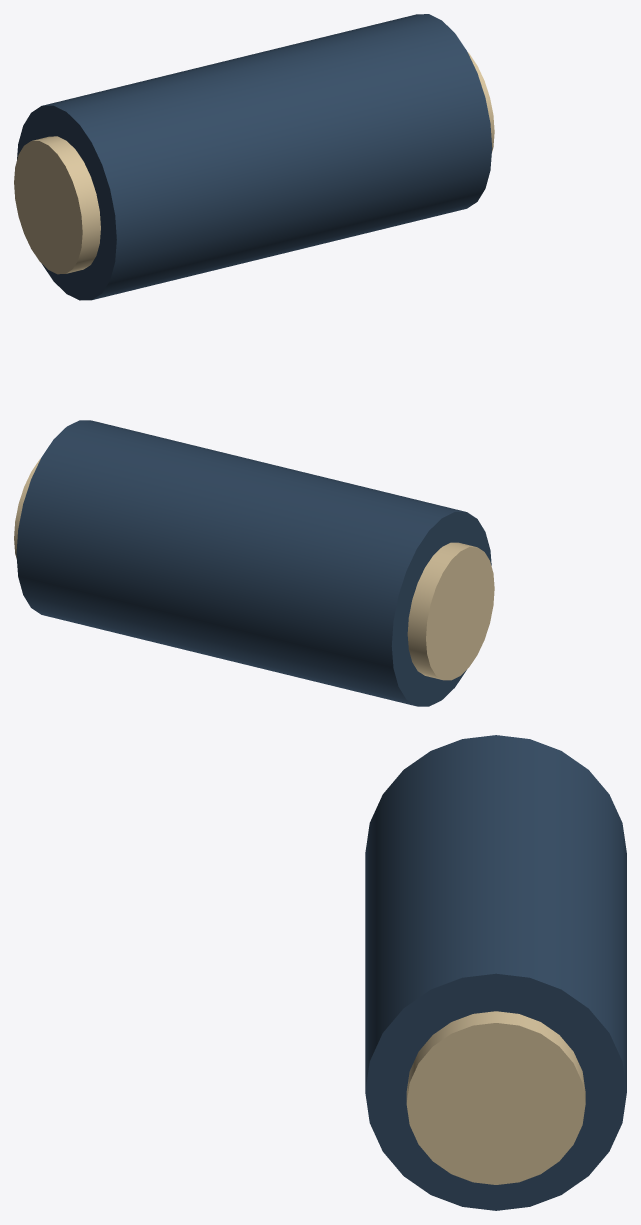
File: fabric-roll.glb
The picture shows the model from 3 angles, top to bottom: view 1: azimuth 30°, elevation 25°; view 2: azimuth 150°, elevation 25°; view 3: azimuth 270°, elevation 25°; orthographic projection. The views are drawn at different scales.
Visible parts, largest first — view 1: rolled-indigo-fabric, fabric-roll-core; view 2: rolled-indigo-fabric, fabric-roll-core; view 3: rolled-indigo-fabric, fabric-roll-core.
Boxes of the visible parts, x1,y1,x2,y2 form: rolled-indigo-fabric: [17, 14, 492, 300]; fabric-roll-core: [14, 52, 494, 274]; rolled-indigo-fabric: [16, 420, 491, 706]; fabric-roll-core: [14, 458, 494, 680]; rolled-indigo-fabric: [365, 735, 626, 1210]; fabric-roll-core: [406, 1011, 585, 1184].
Bounding box in the file's own units: 0.9 × 0.38 × 0.89.
